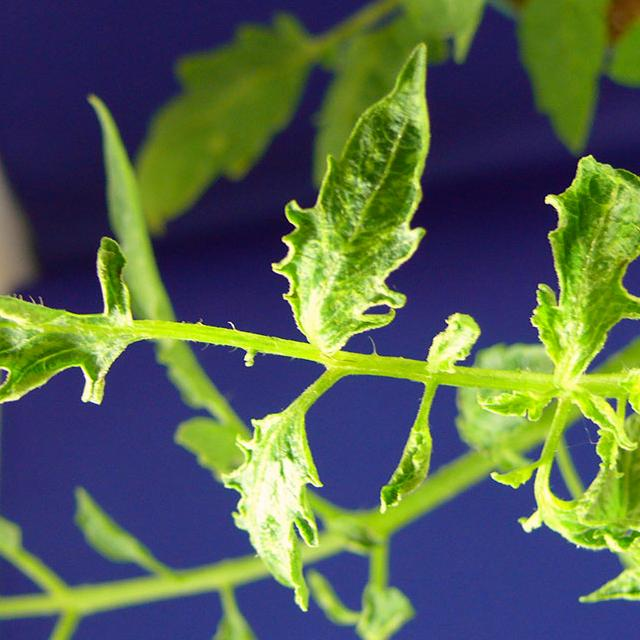Tomato leaf mosaic virus: (255, 34, 463, 356), (496, 137, 640, 380), (213, 401, 334, 621), (0, 246, 162, 403)
